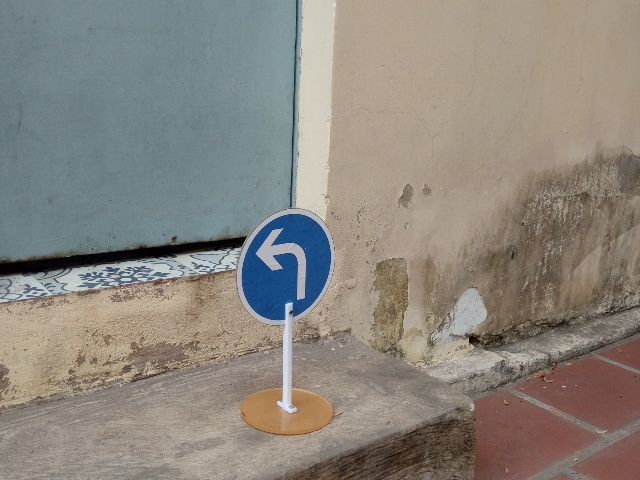Left_Sign: (235, 208, 335, 325)
